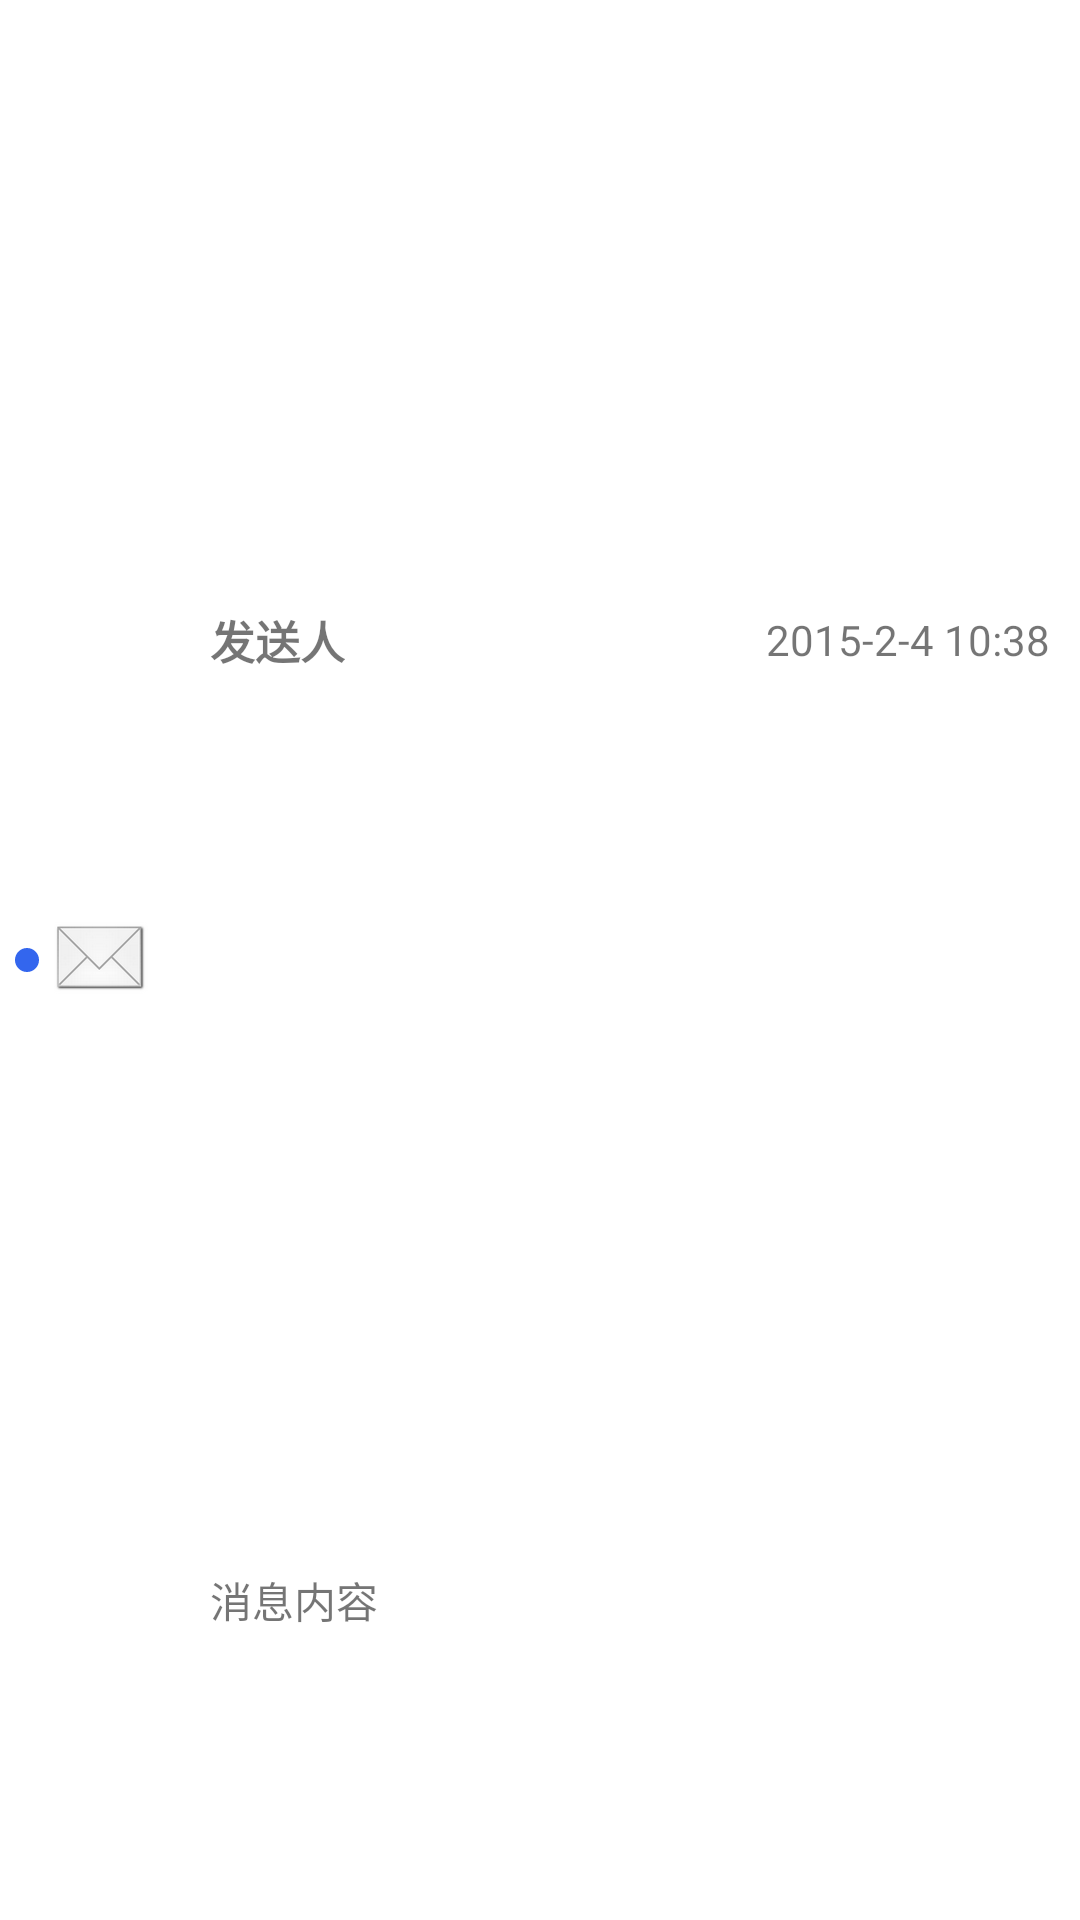

Screen size 1080px x 1920px. Icon name, then its box in pixels as (x1, y1, x2, y2):
message left: (56, 926, 145, 990)
